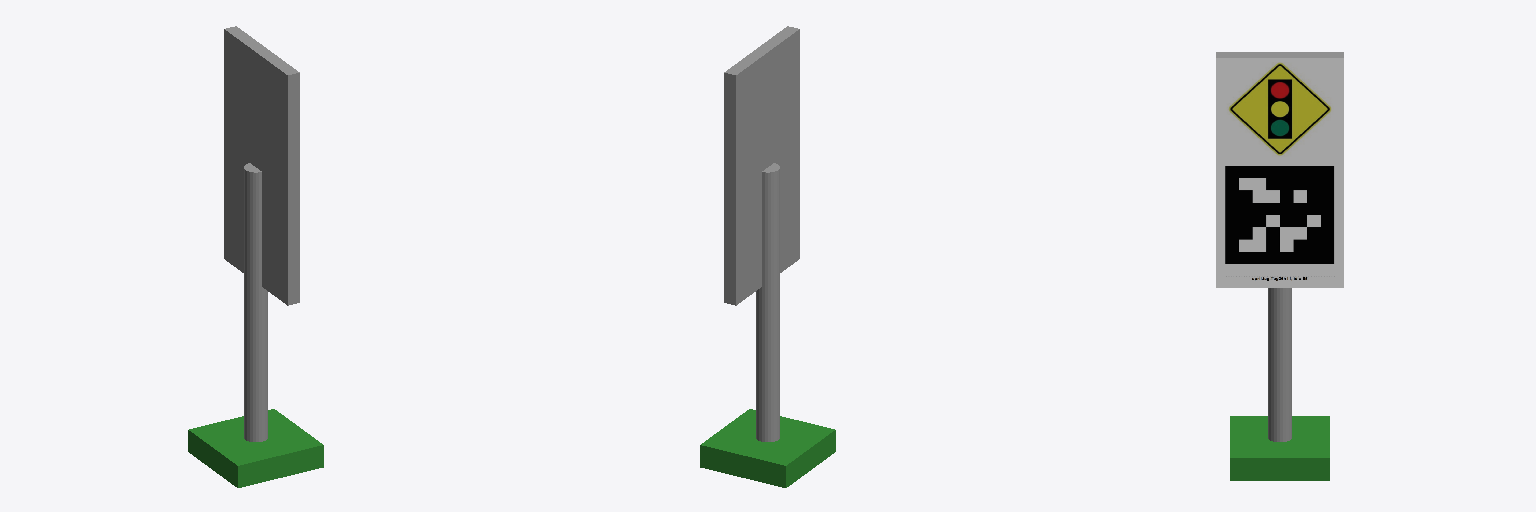
3 renders of one model, left to right at view 1: azimuth 30°, elevation 25°; view 2: azimuth 150°, elevation 25°; view 3: azimuth 270°, elevation 25°, orthographic.
Visible parts, largest first — view 1: SketchUp.002_ID23, SketchUp_ID2, SketchUp.001_ID10; view 2: SketchUp.002_ID23, SketchUp_ID2, SketchUp.001_ID10; view 3: SketchUp.003_ID31, SketchUp_ID2, SketchUp.001_ID10, SketchUp.002_ID23.
Boxes of the visible parts, x1=… form: SketchUp.002_ID23: x1=224, y1=26, x2=299, y2=305; SketchUp_ID2: x1=188, y1=409, x2=323, y2=487; SketchUp.001_ID10: x1=244, y1=163, x2=267, y2=441; SketchUp.002_ID23: x1=724, y1=26, x2=799, y2=305; SketchUp_ID2: x1=700, y1=409, x2=835, y2=487; SketchUp.001_ID10: x1=756, y1=163, x2=779, y2=441; SketchUp.003_ID31: x1=1216, y1=58, x2=1343, y2=287; SketchUp_ID2: x1=1230, y1=416, x2=1329, y2=480; SketchUp.001_ID10: x1=1268, y1=288, x2=1291, y2=441; SketchUp.002_ID23: x1=1216, y1=52, x2=1343, y2=57.
Bounding box in the file's own units: 0.0508 × 0.2301 × 0.065.
Materials: 3 (1 with a texture image).